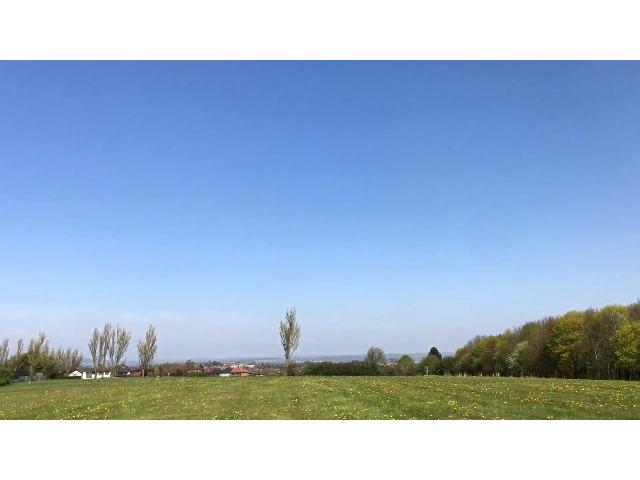Anti-Drone: (246, 232, 276, 258)
